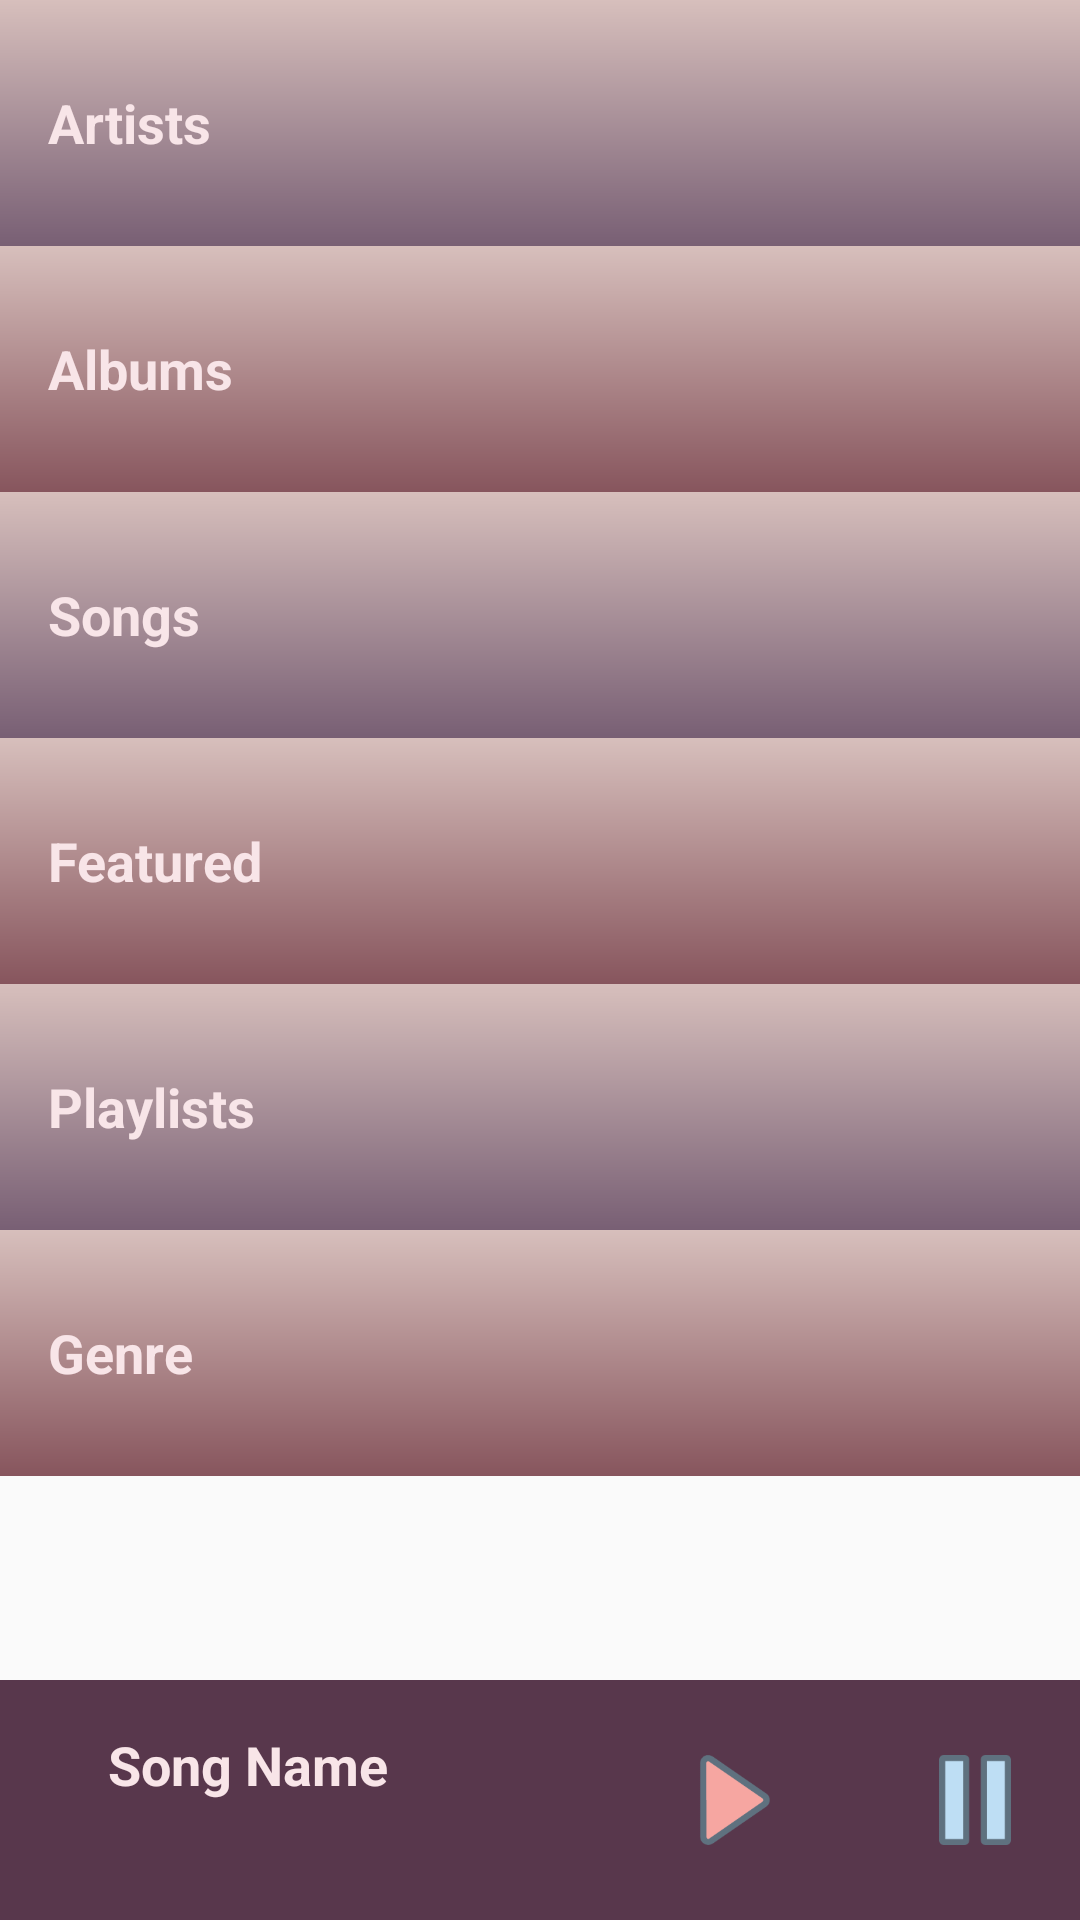

Point at icon controls on the screen. Image size 1080*1920, points as (x,y).
pausebuttontest: (975,1800)
playtestone: (735,1800)
